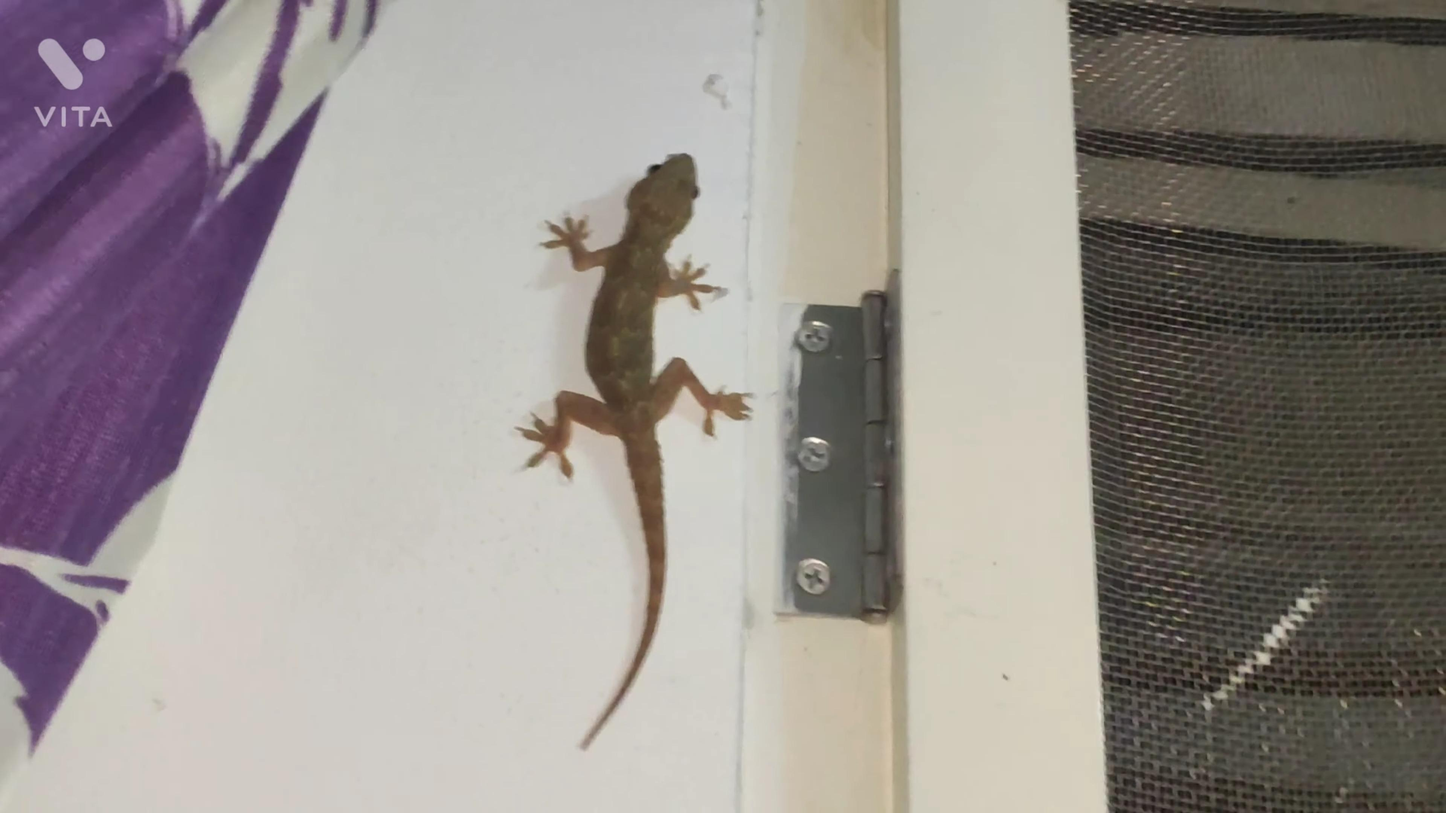lizard: (507, 134, 756, 772)
